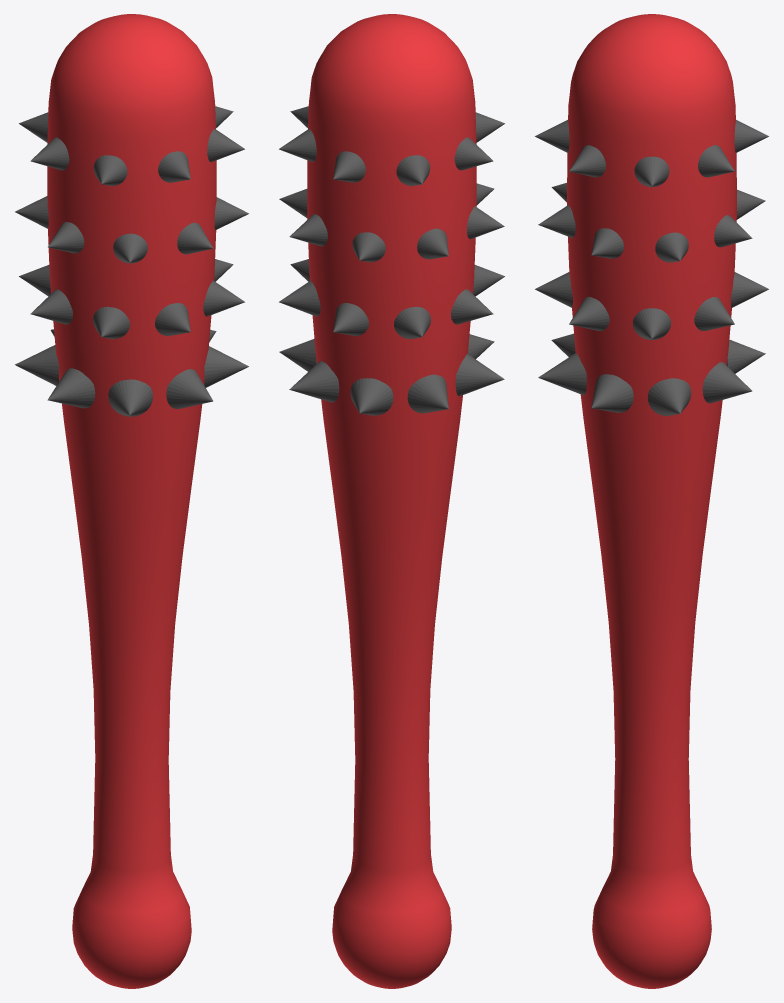
Rendered from boss_weapon.fbx.
3 views of the same model, side by side, from view 1: azimuth 30°, elevation 25°; view 2: azimuth 150°, elevation 25°; view 3: azimuth 270°, elevation 25° (orthographic).
Parts seen in each view (by area): view 1: Cone; view 2: Cone; view 3: Cone.
Boxes of the visible parts, left/top/right/bottom form: Cone: left=15, top=14, right=248, bottom=988; Cone: left=279, top=14, right=504, bottom=988; Cone: left=535, top=14, right=768, bottom=988.
Size of the model in its own units: 86.86 by 392 by 86.86.
